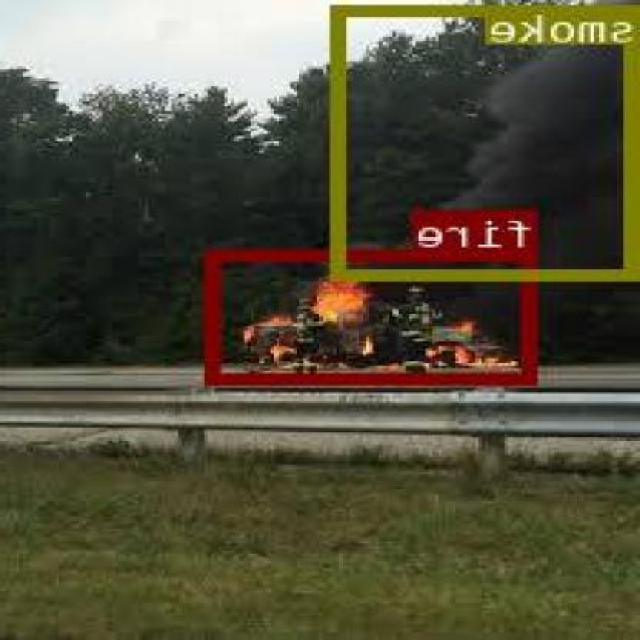Fire: (208, 248, 540, 382)
Smoke: (334, 29, 626, 277)
